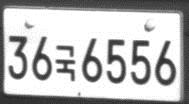3: (7, 33, 27, 79)
5: (129, 39, 151, 86), (105, 38, 126, 84)
6: (81, 37, 103, 83), (31, 36, 52, 81), (155, 41, 176, 86)
국: (53, 44, 76, 81)
